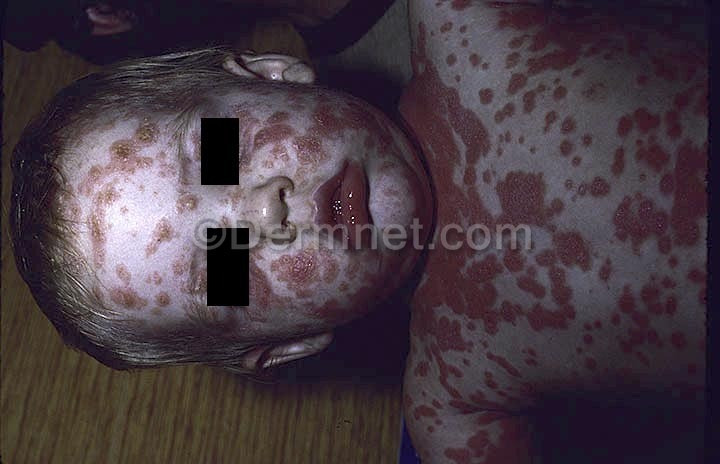Psoriasis: (389, 62, 588, 328), (600, 102, 710, 301), (402, 332, 549, 452), (71, 120, 180, 221), (244, 100, 380, 159), (96, 225, 182, 315), (260, 250, 360, 311)
